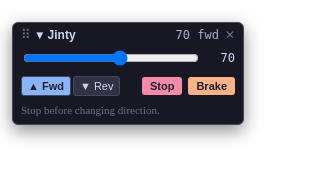
Test case: ThrottleCard — Stop and Brake › shows the refusal when the backend declines the brake
Click the button "Brake". click: (212, 86)
box: left=188, top=77, right=235, bottom=95
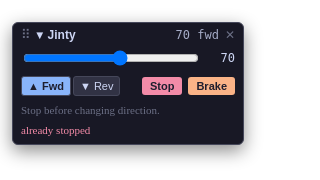
Expected: the text "already stopped" is shown, left=21, top=124, right=90, bottom=136
